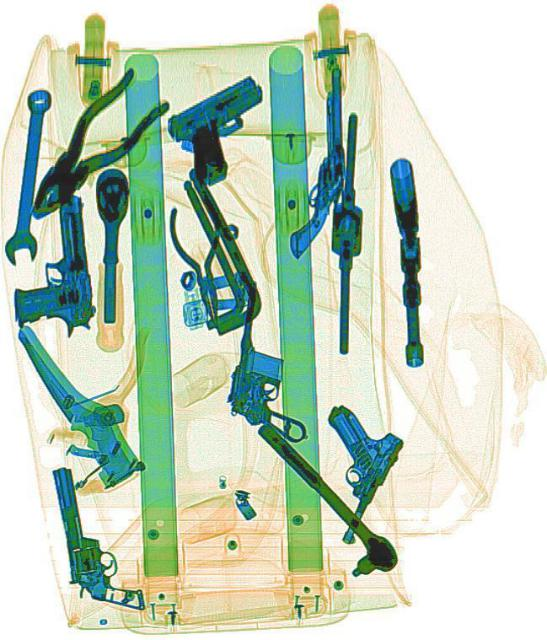Gun: (279, 399, 406, 548), (160, 69, 287, 193), (51, 455, 142, 621), (277, 66, 353, 258), (3, 192, 94, 342), (245, 276, 296, 426)
Pliers: (10, 60, 169, 234), (161, 196, 236, 332)
Wrench: (0, 86, 59, 269)
